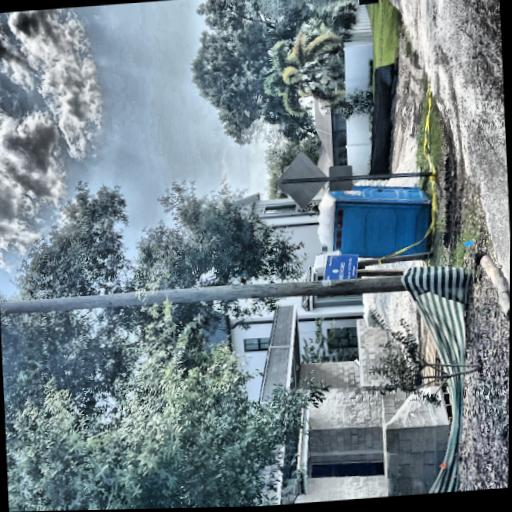pole: (39, 49, 85, 511)
street light: (52, 2, 156, 88)
